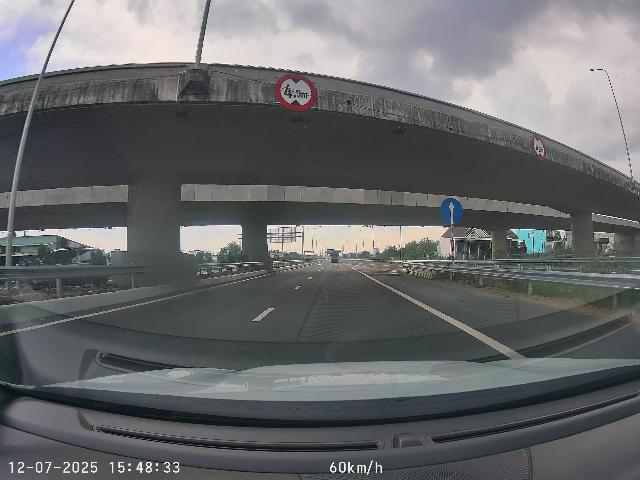301a-cac-xe-chi-duoc-di-thang: (440, 197, 464, 224)
